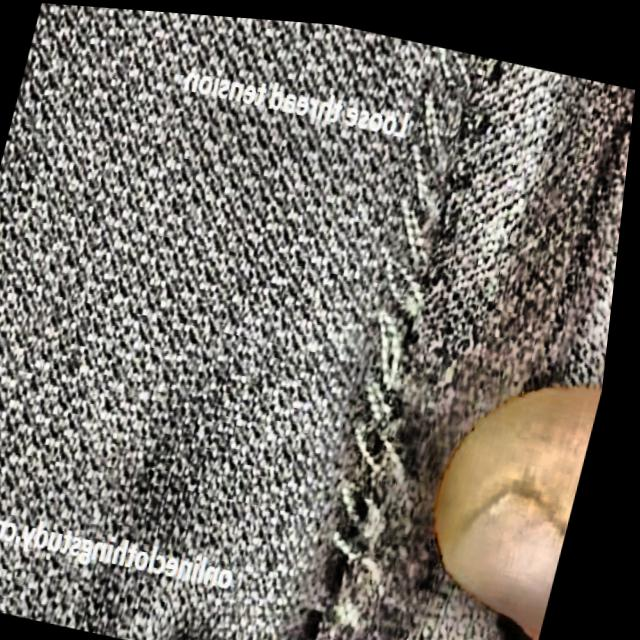Stitch: (294, 44, 528, 640)
